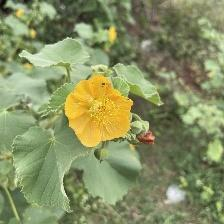indian mallow: (65, 74, 135, 149)
